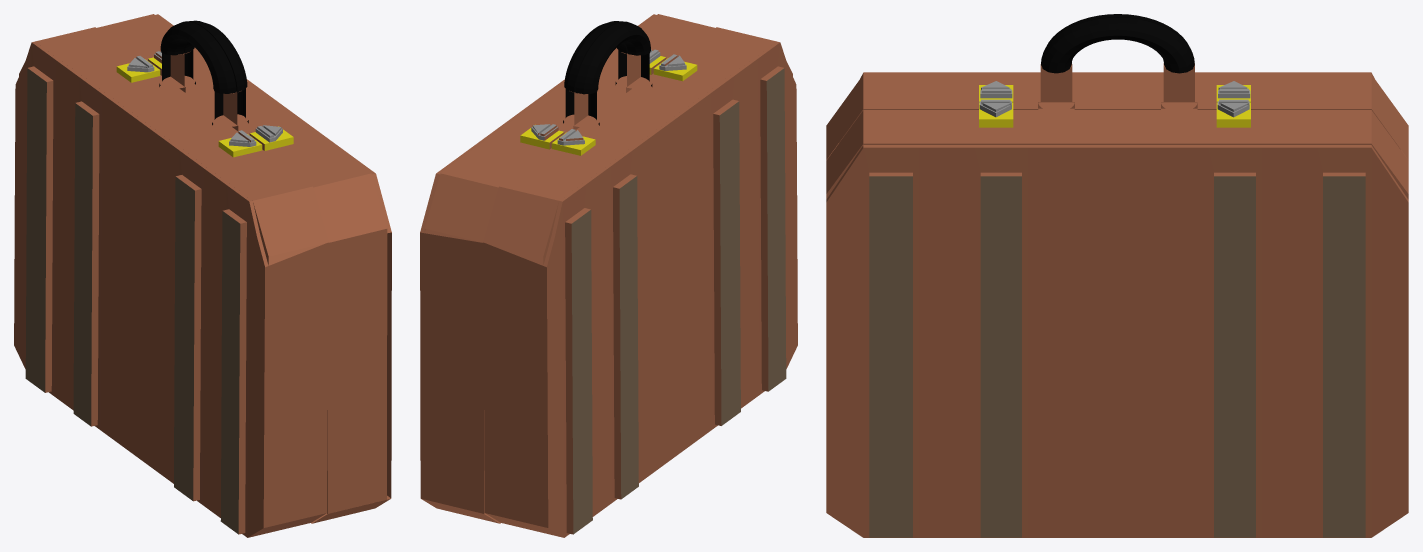
Rendered from briefcase.fbx.
3 views of the same model, side by side, from view 1: azimuth 30°, elevation 25°; view 2: azimuth 150°, elevation 25°; view 3: azimuth 270°, elevation 25° (orthographic). The views are drawn at different scales.
Parts seen in each view (by area): view 1: Part2, Part1; view 2: Part2, Part1; view 3: Part1, Part2.
Part boxes in pixels (x1,y1,x2,y2): Part2: (14, 21, 328, 537); Part1: (97, 14, 391, 523); Part2: (483, 21, 797, 537); Part1: (420, 14, 714, 523); Part1: (826, 17, 1408, 537); Part2: (826, 14, 1408, 160).
Size of the model in its own units: 88.17 by 248 by 269.
